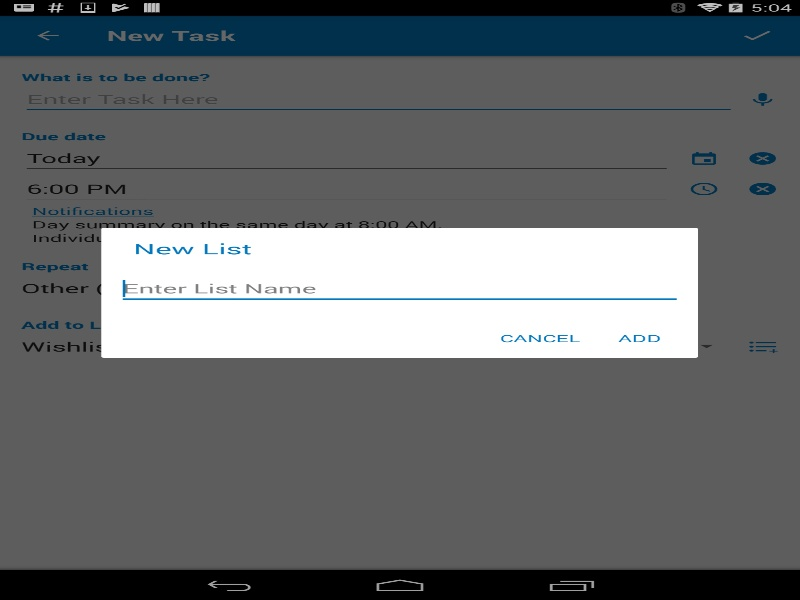Button: (484, 321, 596, 355), (596, 321, 682, 355)
Input: (117, 273, 682, 304)
